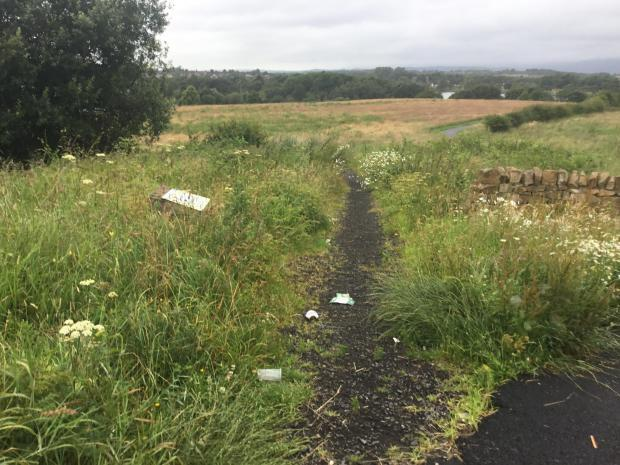overgrown grass: (0, 146, 349, 464), (371, 160, 615, 437)
trash: (161, 189, 209, 210), (258, 368, 281, 380), (330, 293, 354, 303), (306, 310, 319, 319), (331, 297, 352, 302), (591, 435, 597, 448)
